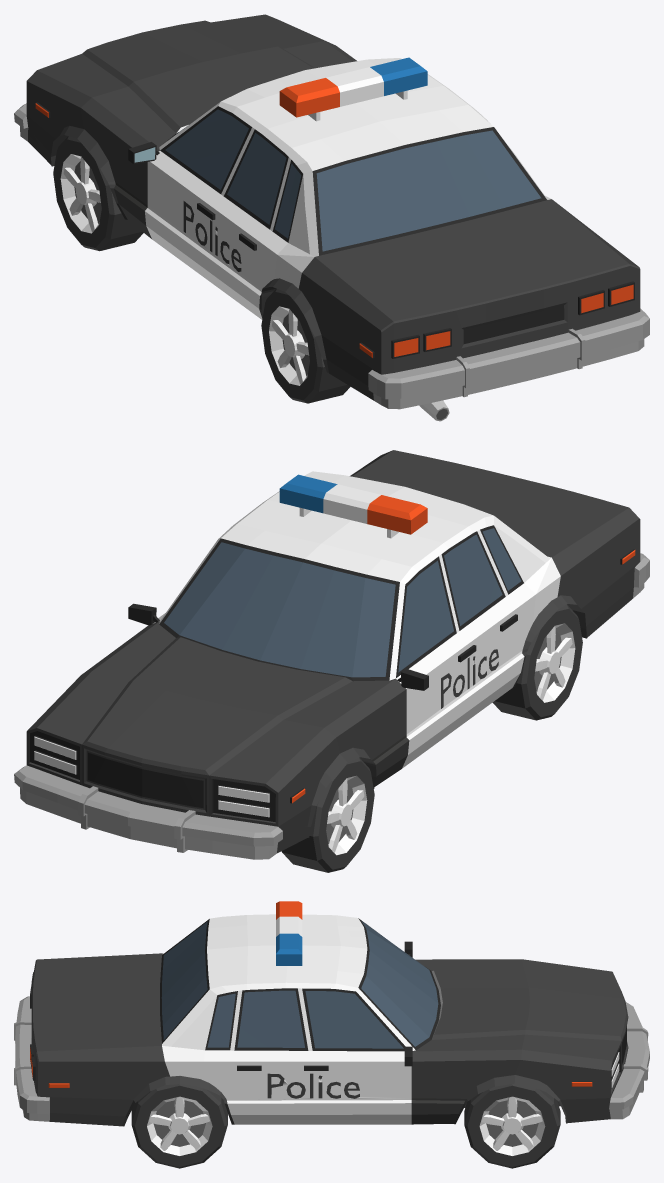
The model's file is abandoned_police.glb.
The picture shows the model from 3 angles, top to bottom: view 1: azimuth 30°, elevation 25°; view 2: azimuth 150°, elevation 25°; view 3: azimuth 270°, elevation 25°; orthographic projection. The views are drawn at different scales.
Parts seen in each view (by area): view 1: Police Car N_4, Police Car N_4 FL Tire, Police Car N_4 BL Tire; view 2: Police Car N_4, Police Car N_4 FL Tire, Police Car N_4 BL Tire; view 3: Police Car N_4, Police Car N_4 FR Tire, Police Car N_4 BR Tire.
Boxes of the visible parts, left/top/right/bottom form: Police Car N_4: left=14, top=14, right=649, bottom=421; Police Car N_4 FL Tire: left=53, top=136, right=143, bottom=251; Police Car N_4 BL Tire: left=261, top=288, right=350, bottom=403; Police Car N_4: left=14, top=450, right=649, bottom=859; Police Car N_4 FL Tire: left=281, top=757, right=374, bottom=872; Police Car N_4 BL Tire: left=492, top=604, right=582, bottom=720; Police Car N_4: left=14, top=901, right=649, bottom=1126; Police Car N_4 FR Tire: left=464, top=1083, right=560, bottom=1168; Police Car N_4 BR Tire: left=131, top=1084, right=227, bottom=1168.
Bounding box in the file's own units: 1.84 × 1.44 × 4.3.
2 materials, 2 textured.
